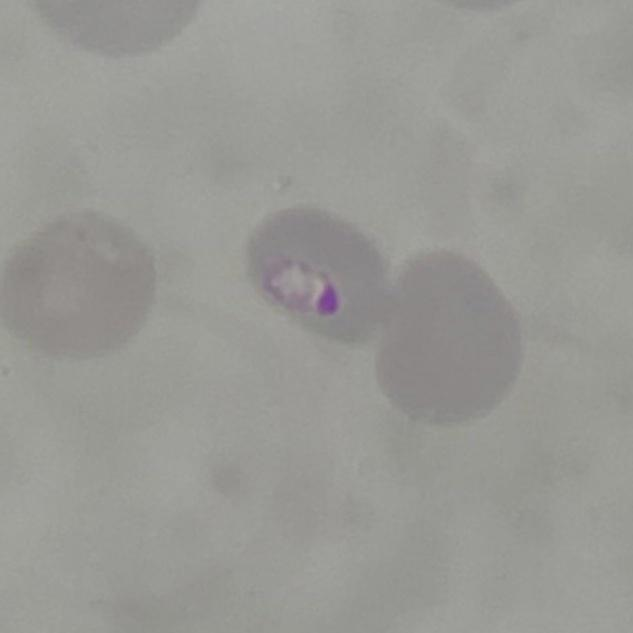Infected: (245, 203, 399, 348)
Uninfected: (375, 252, 526, 422), (12, 213, 162, 360)
